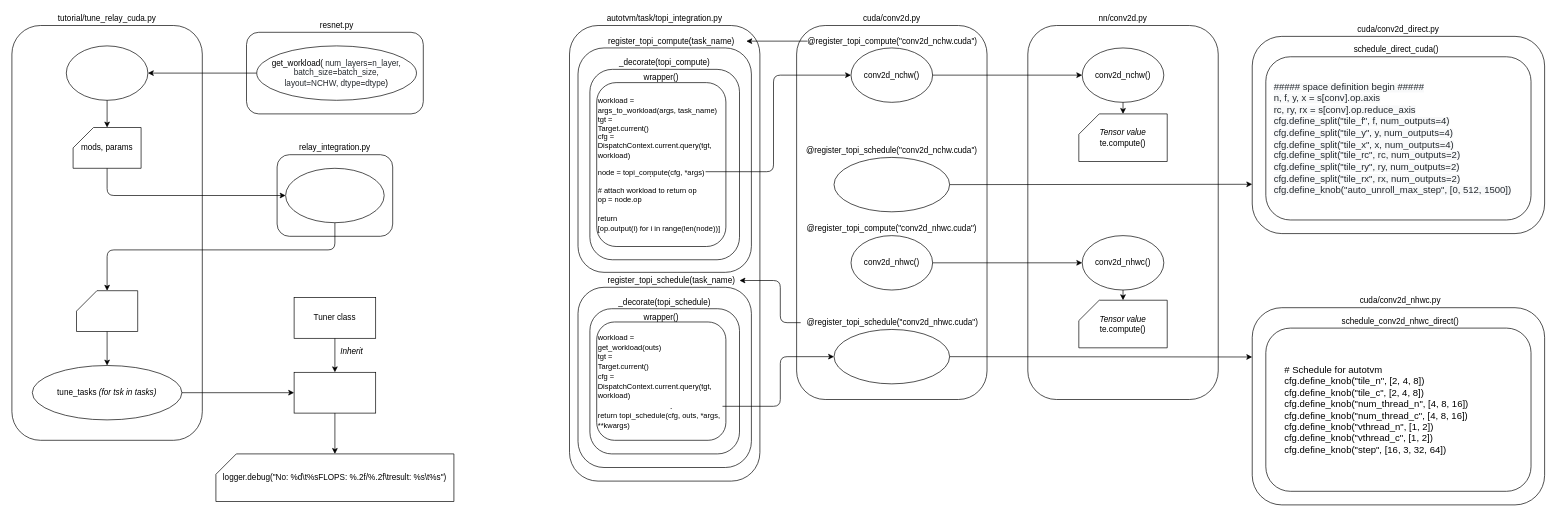
Image size: 1557x517. Some labels were removed from this diagram. Here are the shapes that lost their labels. From the top down, the centre of each, then its label:
At pixel 107 72: "get_network()".
At pixel 334 195: "extract_from_program()".
At pixel 891 184: "schedule_conv2d_nchw()".
At pixel 107 311: "tasks (list)".
At pixel 891 356: "schedule_conv2d_nhwc()".
At pixel 334 392: "xgboost_tuner.py".
